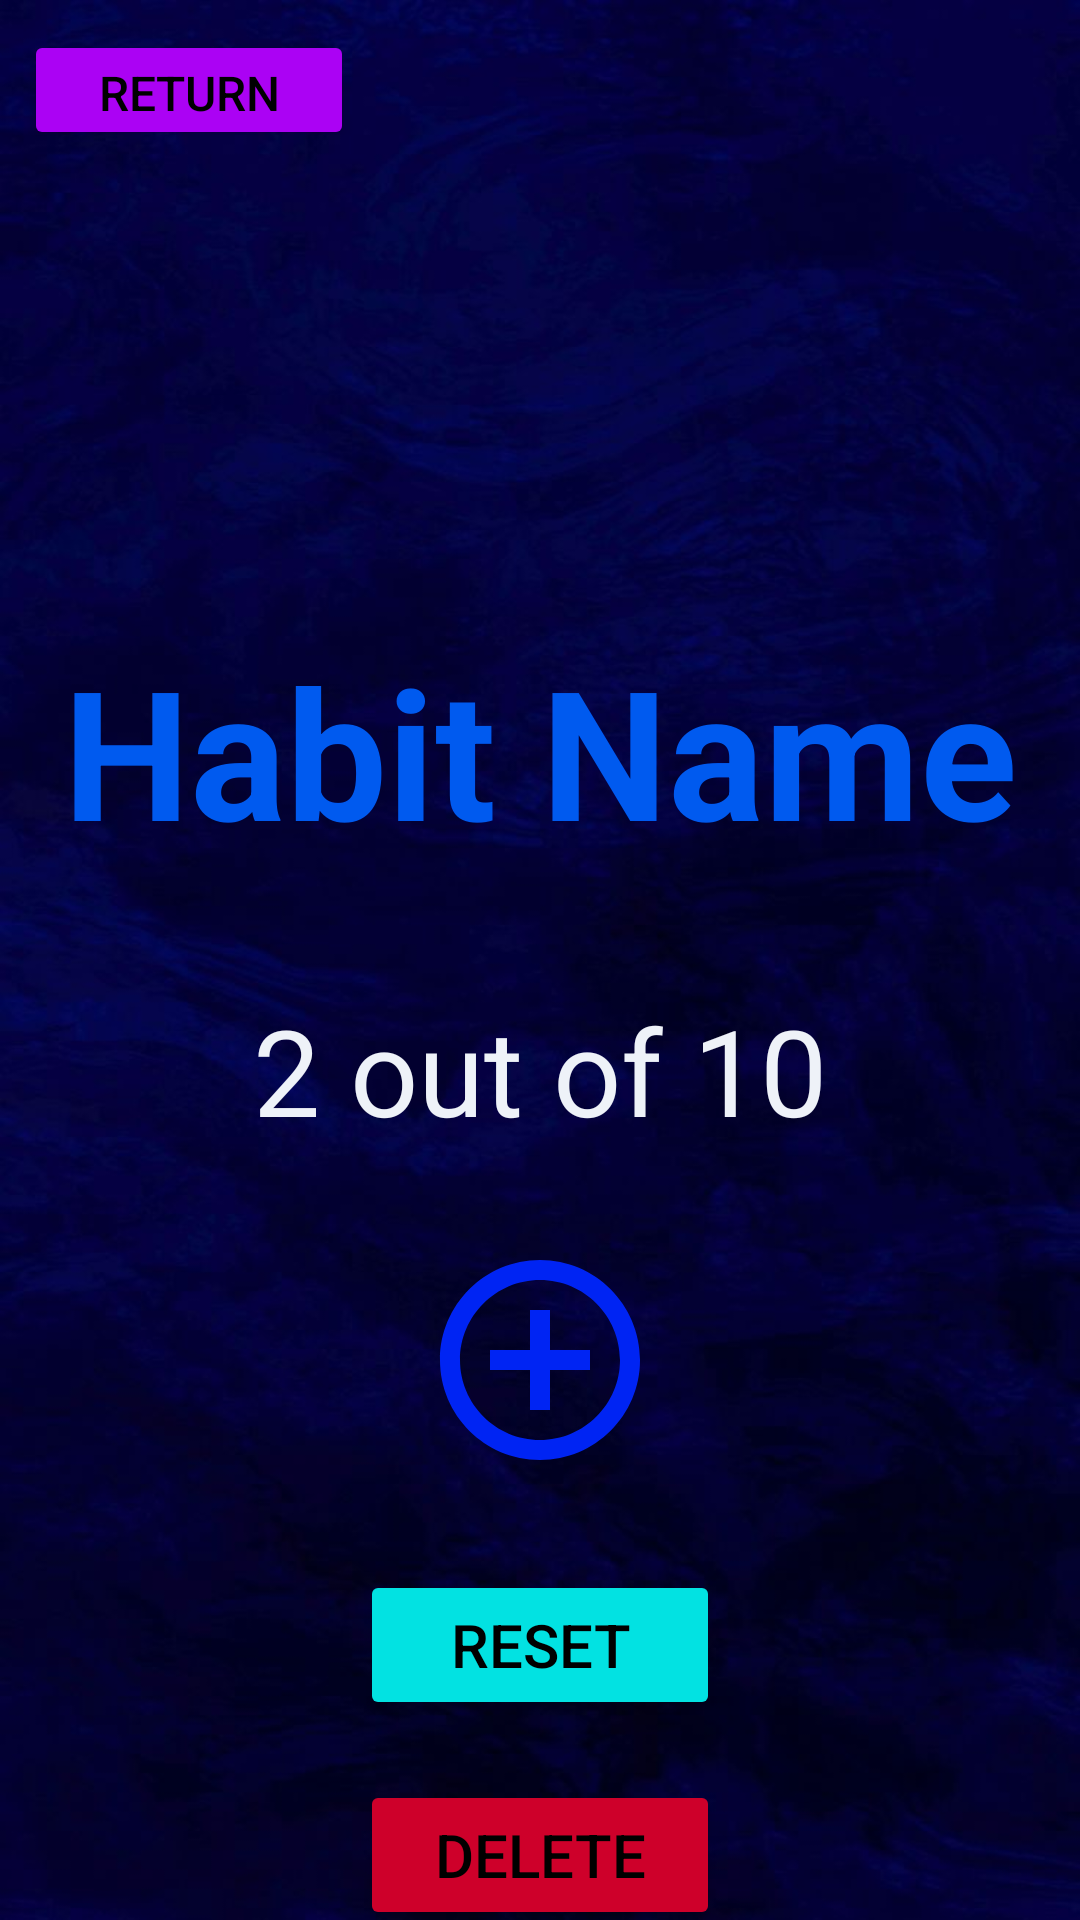

Icons on this 1080*1920 Android screen, each with the point to tap as [x,y]:
plus: [540,1367]
